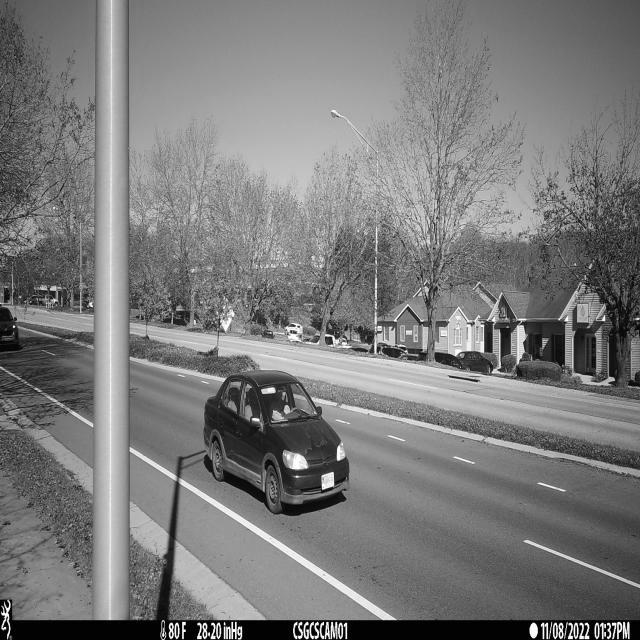Sedan: (203, 370, 350, 514)
